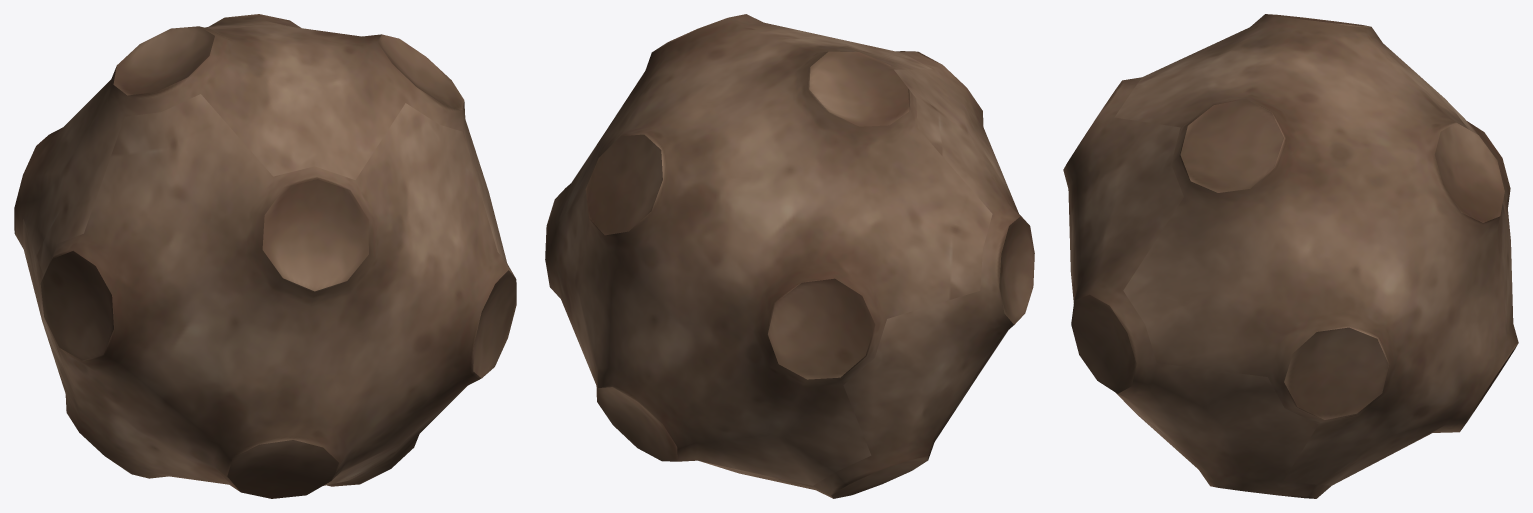
The model's file is Asteroid_throw.FBX.
The picture shows the model from 3 angles, left to right: view 1: azimuth 30°, elevation 25°; view 2: azimuth 150°, elevation 25°; view 3: azimuth 270°, elevation 25°; orthographic projection. The views are drawn at different scales.
Visible parts, largest first — view 1: Asteroid_throw; view 2: Asteroid_throw; view 3: Asteroid_throw.
Boxes of the visible parts, box(x1,y1,x2,y2) form: Asteroid_throw: box(14, 14, 516, 498); Asteroid_throw: box(545, 14, 1034, 498); Asteroid_throw: box(1063, 14, 1518, 498).
Size of the model in its own units: 0.9576 by 0.9382 by 0.8956.
